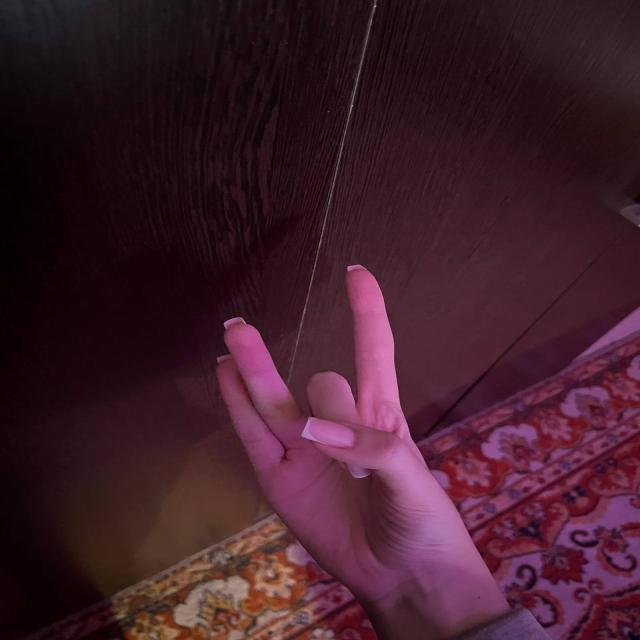r: (173, 245, 502, 567)
